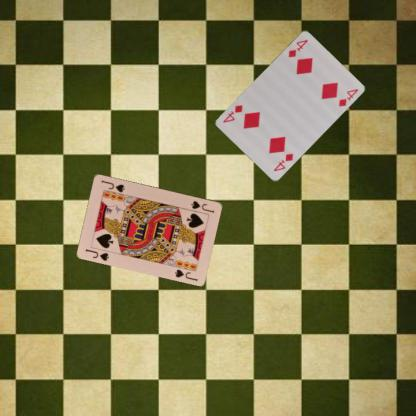4d: (271, 150, 295, 172), (286, 37, 309, 58)
Js: (188, 198, 216, 214), (84, 246, 110, 262)
